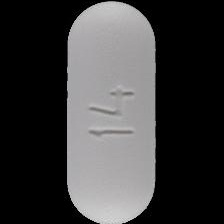33261-907: (0, 0, 224, 224)
